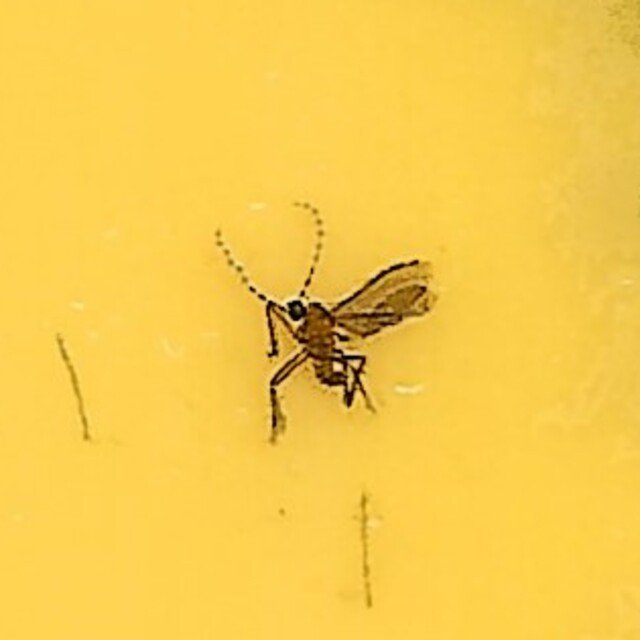Hymenoptera: (203, 203, 437, 437)
